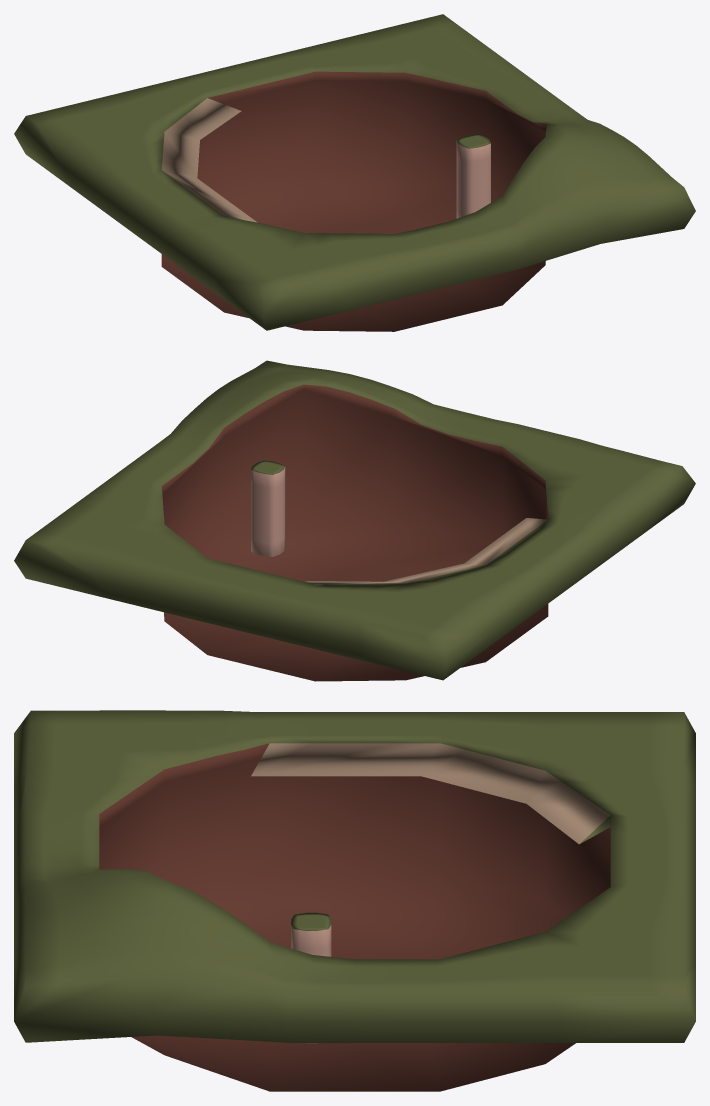
Rendered from mapa_nowa.glb.
The picture shows the model from 3 angles, top to bottom: view 1: azimuth 30°, elevation 25°; view 2: azimuth 150°, elevation 25°; view 3: azimuth 270°, elevation 25°; orthographic projection. The views are drawn at different scales.
Parts seen in each view (by area): view 1: grunt.001, wyspa; view 2: grunt.001, wyspa; view 3: grunt.001, wyspa.
Boxes of the visible parts, left/top/right/bottom form: grunt.001: left=14, top=14, right=695, bottom=331; wyspa: left=456, top=134, right=490, bottom=218; grunt.001: left=14, top=360, right=695, bottom=681; wyspa: left=251, top=460, right=285, bottom=556; grunt.001: left=14, top=710, right=695, bottom=1091; wyspa: left=291, top=912, right=331, bottom=1043.
Bounding box in the file's own units: 16.16 × 4.82 × 16.16.
